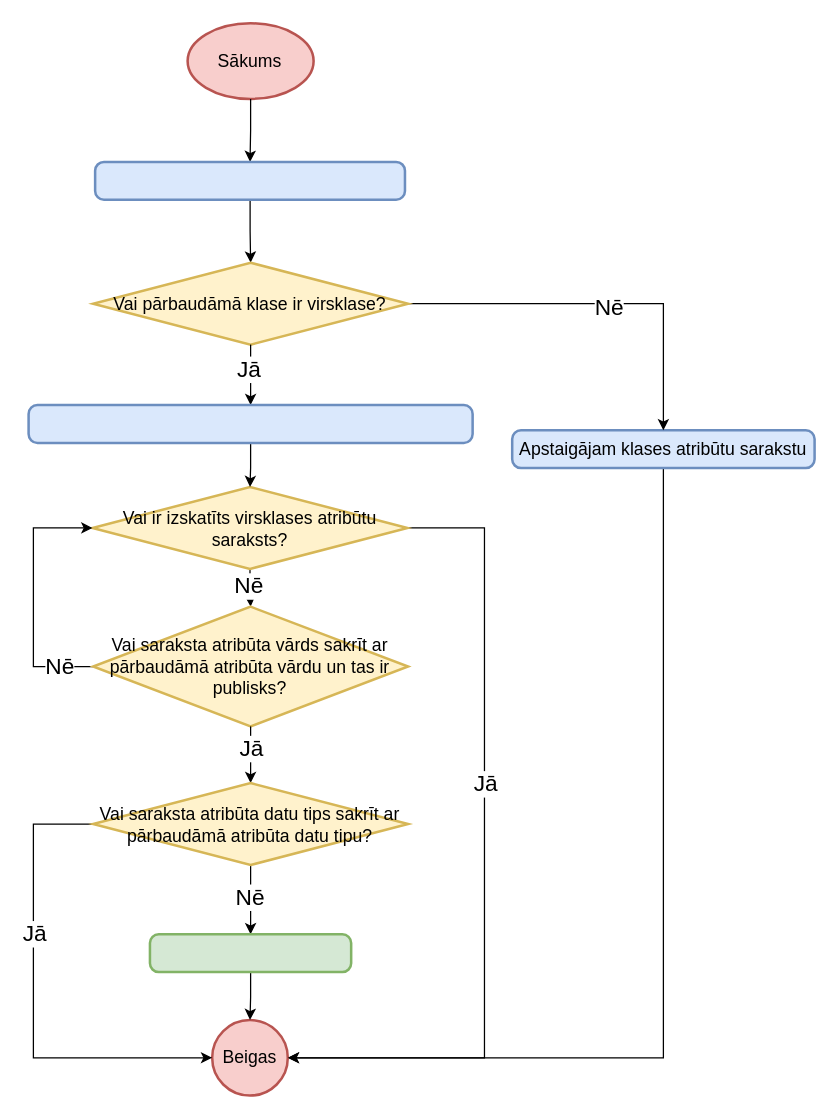
This 837x1118 diagram has some shape labels left out. Here are the shapes that lost their labels. From the top down, the centre of each, then its label:
At point 249,180: "Apstaigājam klases metožu sarakstu".
At point 250,423: "Apstaigājam klases asociācijas galapunktu sarakstu".
At point 250,952: "Saglabā kļūdu".
